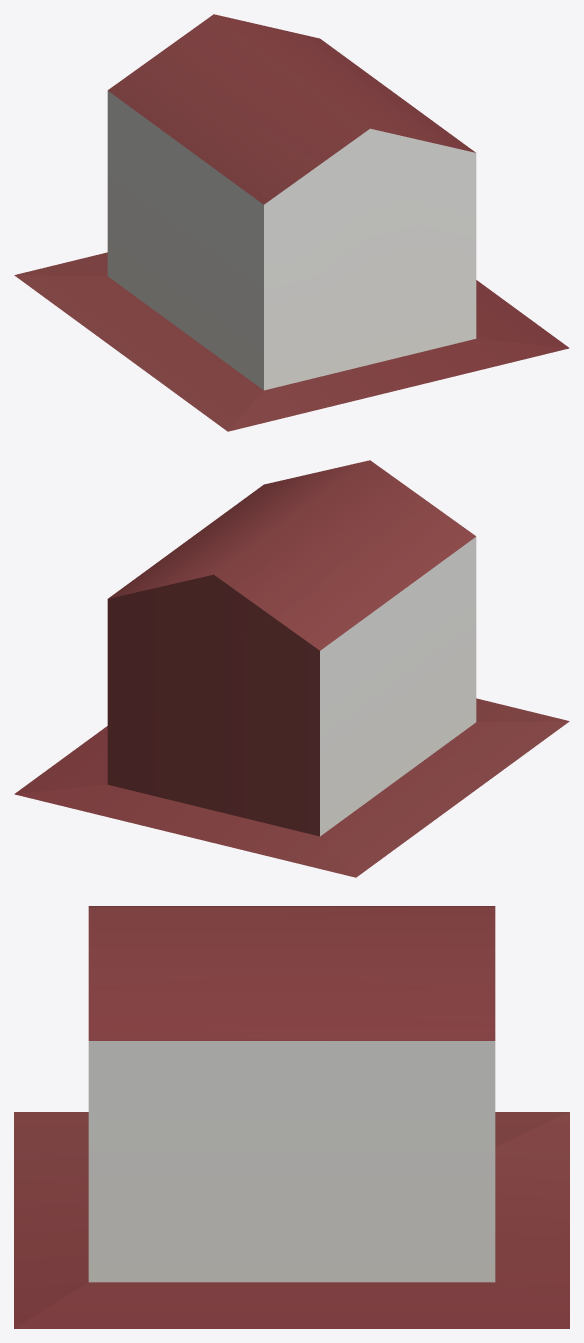
File: house_two.FBX
3 renders of one model, top to bottom at view 1: azimuth 30°, elevation 25°; view 2: azimuth 150°, elevation 25°; view 3: azimuth 270°, elevation 25°, orthographic. The views are drawn at different scales.
Parts seen in each view (by area): view 1: Box001; view 2: Box001; view 3: Box001.
Boxes of the visible parts, left/top/right/bottom form: Box001: left=14, top=14, right=569, bottom=431; Box001: left=14, top=460, right=569, bottom=877; Box001: left=14, top=906, right=569, bottom=1328.
Bounding box in the file's own units: 16.32 × 10.96 × 17.68.
